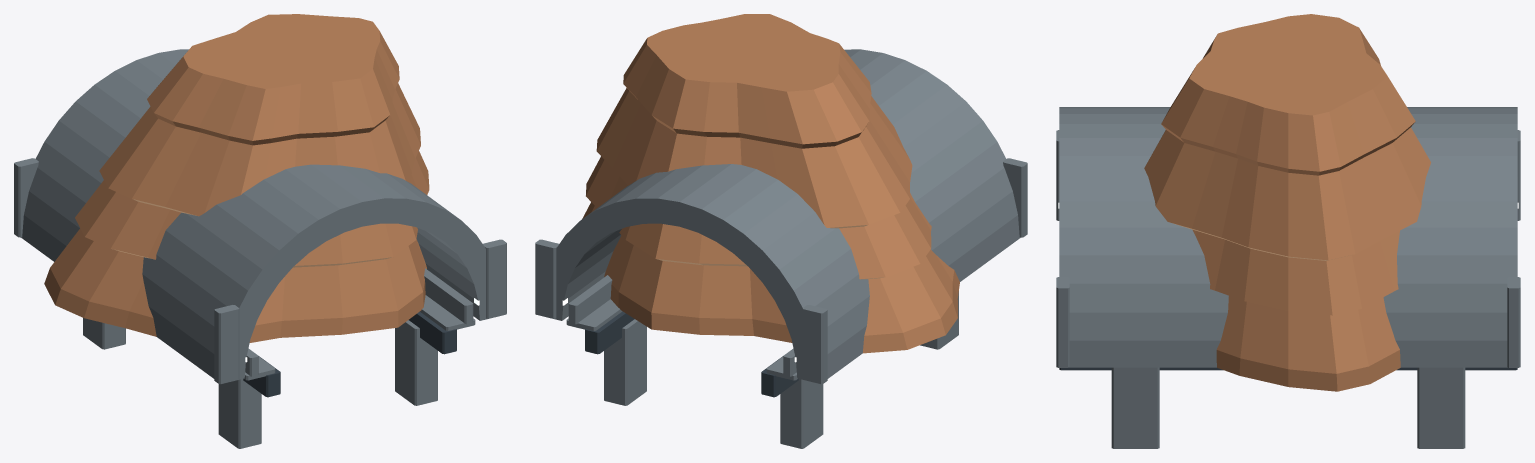
Rendered from desert.glb.
The picture shows the model from 3 angles, left to right: view 1: azimuth 30°, elevation 25°; view 2: azimuth 150°, elevation 25°; view 3: azimuth 270°, elevation 25°; orthographic projection. The views are drawn at different scales.
Parts seen in each view (by area): view 1: Wind eroded layered mesa, Short vaulted road gallery, Tapered bridge pier.002, Tapered bridge pier, Portal rib buttress, Portal rib buttress.001, Bridge parapet.001, Portal rib buttress.002, Bridge lower stringer.001, Tapered bridge pier.001, Parapet deck connector.001, Bridge lower stringer; view 2: Wind eroded layered mesa, Short vaulted road gallery, Tapered bridge pier.003, Tapered bridge pier.001, Portal rib buttress.002, Portal rib buttress.003, Portal rib buttress, Bridge parapet.001, Bridge lower stringer.001, Parapet deck connector.001, Bridge lower stringer; view 3: Wind eroded layered mesa, Short vaulted road gallery, Tapered bridge pier.002, Tapered bridge pier.003, Portal rib buttress.001, Portal rib buttress.003, Bridge lower stringer.001.
Part boxes in pixels (x1=…): Wind eroded layered mesa: x1=44, y1=14, x2=429, y2=342; Short vaulted road gallery: x1=21, y1=49, x2=487, y2=379; Tapered bridge pier.002: x1=395, y1=320, x2=437, y2=405; Tapered bridge pier: x1=218, y1=379, x2=261, y2=448; Portal rib buttress: x1=214, y1=305, x2=239, y2=384; Portal rib buttress.001: x1=483, y1=239, x2=506, y2=318; Bridge parapet.001: x1=424, y1=268, x2=473, y2=324; Portal rib buttress.002: x1=14, y1=158, x2=38, y2=237; Bridge lower stringer.001: x1=409, y1=311, x2=456, y2=354; Tapered bridge pier.001: x1=83, y1=318, x2=125, y2=349; Parapet deck connector.001: x1=420, y1=295, x2=475, y2=330; Bridge lower stringer: x1=243, y1=356, x2=280, y2=397; Wind eroded layered mesa: x1=582, y1=14, x2=959, y2=353; Short vaulted road gallery: x1=554, y1=49, x2=1020, y2=379; Tapered bridge pier.003: x1=604, y1=319, x2=646, y2=405; Tapered bridge pier.001: x1=780, y1=379, x2=823, y2=448; Portal rib buttress.002: x1=802, y1=305, x2=827, y2=384; Portal rib buttress.003: x1=535, y1=239, x2=558, y2=318; Portal rib buttress: x1=1003, y1=158, x2=1027, y2=237; Bridge parapet.001: x1=568, y1=275, x2=612, y2=324; Bridge lower stringer.001: x1=585, y1=311, x2=634, y2=354; Parapet deck connector.001: x1=566, y1=299, x2=622, y2=330; Bridge lower stringer: x1=761, y1=356, x2=798, y2=397; Wind eroded layered mesa: x1=1144, y1=14, x2=1430, y2=391; Short vaulted road gallery: x1=1059, y1=107, x2=1517, y2=367; Tapered bridge pier.002: x1=1111, y1=367, x2=1159, y2=448; Tapered bridge pier.003: x1=1417, y1=367, x2=1465, y2=448; Portal rib buttress.001: x1=1056, y1=277, x2=1069, y2=367; Portal rib buttress.003: x1=1507, y1=277, x2=1520, y2=367; Bridge lower stringer.001: x1=1059, y1=367, x2=1517, y2=370.
Size of the model in its own units: 25.15 by 20 by 24.3.
